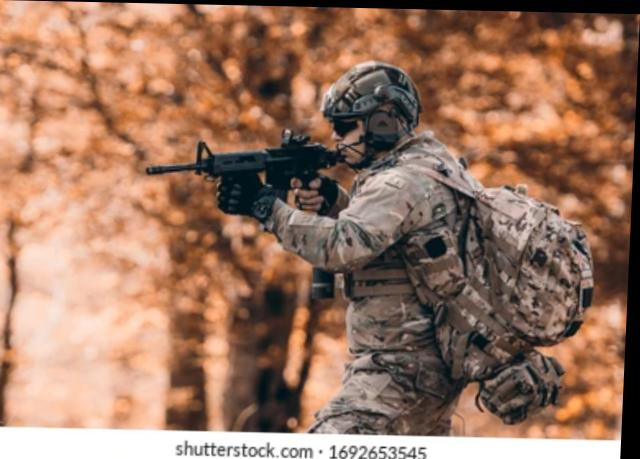other: (238, 30, 493, 458)
